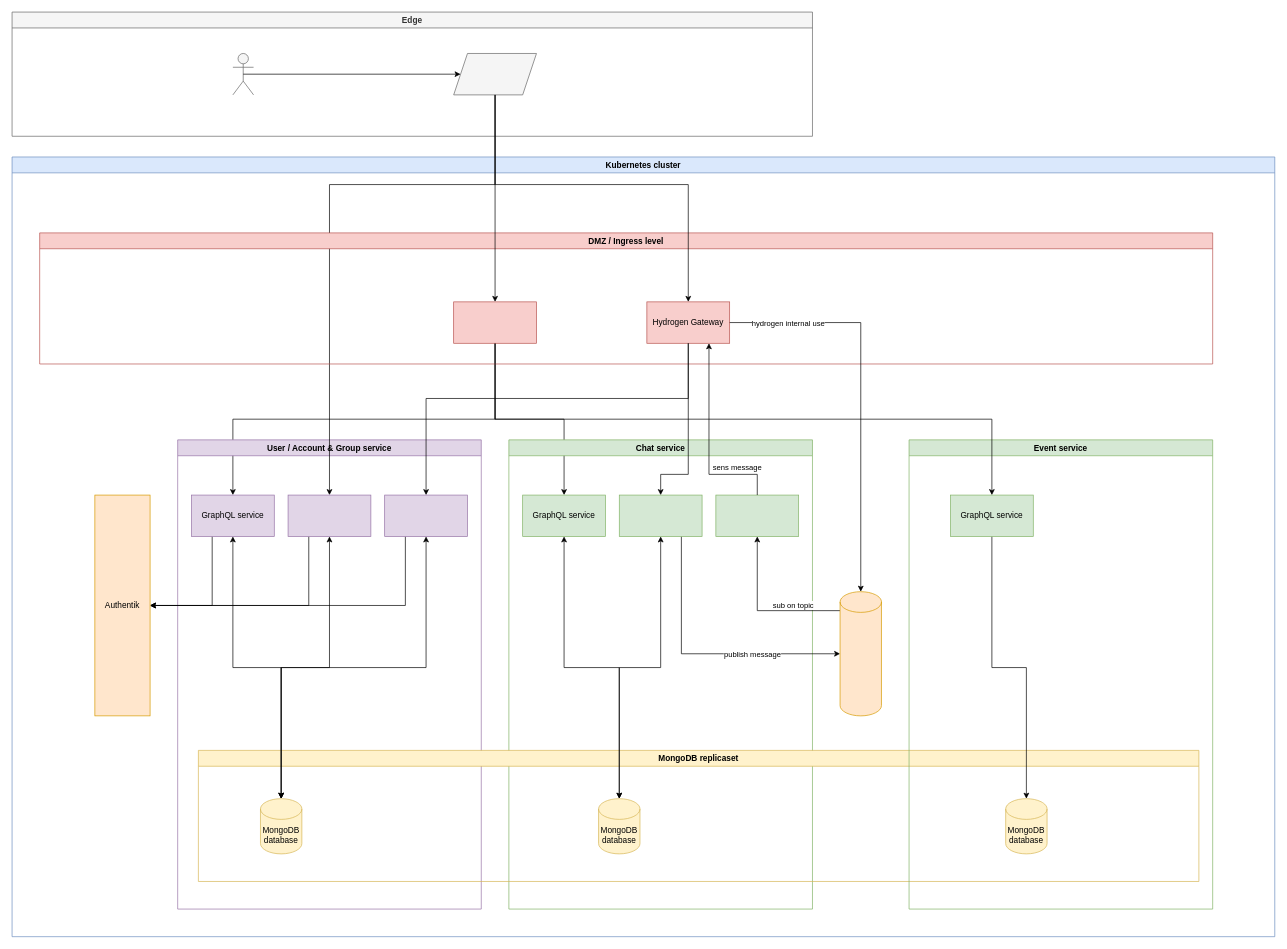
Image size: 1287x949. Some labels were removed from this diagram. Each missing label, with the centre of its shape:
"Actor" goes at (243,74).
"App" goes at (494,74).
"GraphQL Apollo Federation Gateway" goes at (494,322).
"Hydrogen Authorizer" goes at (425,515).
"Hydrogen downstream service" goes at (660,515).
"Login / Register" goes at (329,515).
"Message broker" goes at (757,515).
"Redis" goes at (860,653).
